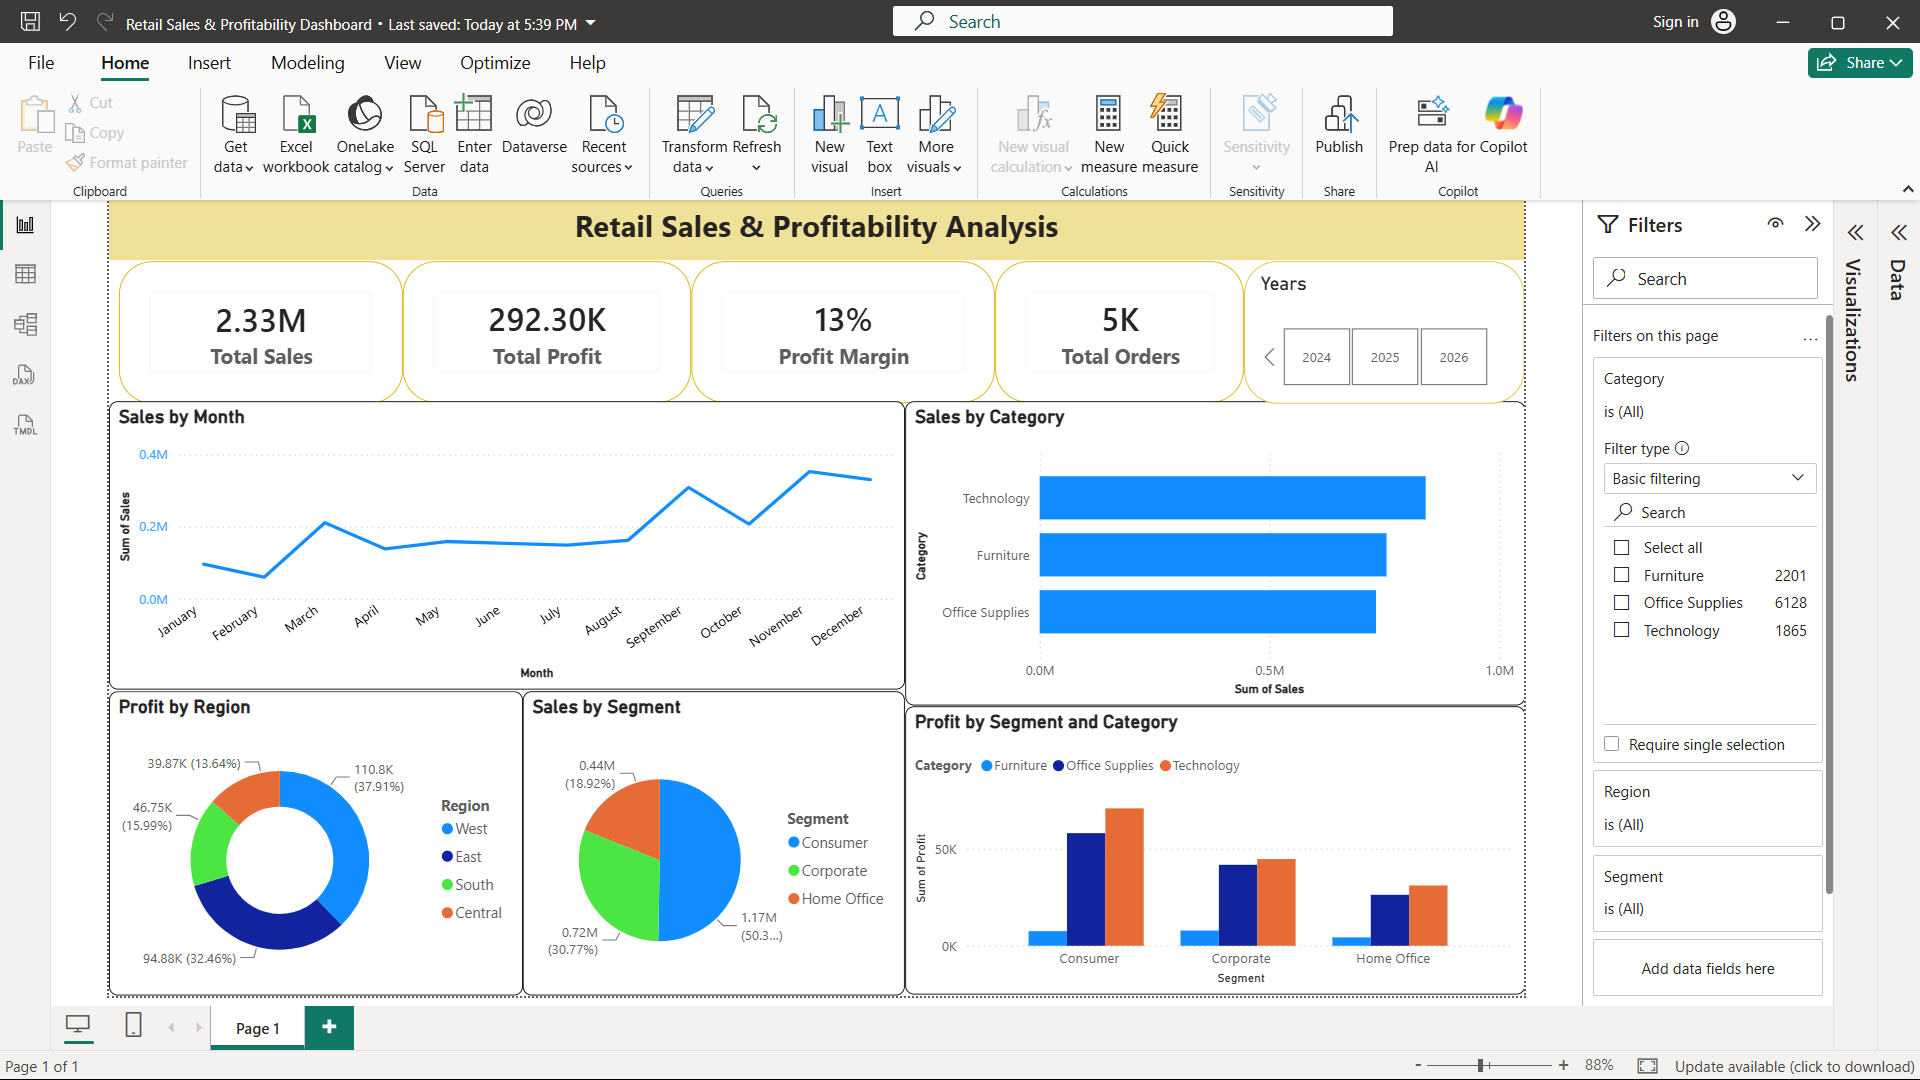

This screenshot's page, from the dashboard's own definition file:
{"tool":"powerbi","page":{"name":"Page 1","canvas":[1280,720],"ordinal":0},"visuals":[{"type":"cardVisual","fields":{"Data":["superstore_cleaned.Total Sales"]},"box":[9.6,54.9,256.6,129],"z":0},{"type":"cardVisual","fields":{"Data":["superstore_cleaned.Total Profit"]},"box":[266.2,54.9,260.7,127.6],"z":1000},{"type":"cardVisual","fields":{"Data":["superstore_cleaned.Profit Margin"]},"box":[526.9,54.9,274.4,127.6],"z":2000},{"type":"cardVisual","fields":{"Data":["superstore_cleaned.Total Orders"]},"box":[801.4,54.9,225,127.6],"z":3000},{"type":"lineChart","title":"Sales by Month","fields":{"Category":["superstore_cleaned.Order Date.Variation.Date Hierarchy.Month"],"Y":["Sum(superstore_cleaned.Sales)"]},"box":[0,182.6,719.8,260.5],"z":4000},{"type":"clusteredBarChart","title":"Sales by Category","fields":{"Category":["superstore_cleaned.Category"],"Y":["Sum(superstore_cleaned.Sales)"]},"box":[720.4,182.5,560.5,275.6],"z":5000},{"type":"pieChart","title":"Sales by Segment","fields":{"Category":["superstore_cleaned.Segment"],"Y":["Sum(superstore_cleaned.Sales)"]},"box":[374.4,444.2,345.3,275.6],"z":6000},{"type":"donutChart","title":"Profit by Region","fields":{"Category":["superstore_cleaned.Region"],"Y":["Sum(superstore_cleaned.Profit)"]},"box":[0,444.2,374.4,275.6],"z":7000},{"type":"clusteredColumnChart","title":"Profit by Segment and Category","fields":{"Category":["superstore_cleaned.Segment"],"Y":["Sum(superstore_cleaned.Profit)"],"Series":["superstore_cleaned.Category"]},"box":[720.4,458.3,560.5,260.5],"z":8000},{"type":"textbox","box":[0,0,1280.2,54.7],"z":8001},{"type":"slicer","title":"Years","fields":{"Values":["superstore_cleaned.Order Date.Variation.Date Hierarchy.Year"]},"box":[1026.4,54.9,253.9,129],"z":8002}]}

Visuals, with their boxes on the page's 1280x720 design canvas (x1, y1, x2, y2). These are canvas units, not pixel positions in the 1920x1080 screenshot, which may show the page scaled, cropped or inside an application window:
cardVisual - superstore_cleaned.Total Sales: <box>10,55,266,184</box>
cardVisual - superstore_cleaned.Total Profit: <box>266,55,527,182</box>
cardVisual - superstore_cleaned.Profit Margin: <box>527,55,801,182</box>
cardVisual - superstore_cleaned.Total Orders: <box>801,55,1026,182</box>
"Sales by Month" lineChart: <box>0,183,720,443</box>
"Sales by Category" clusteredBarChart: <box>720,182,1281,458</box>
"Sales by Segment" pieChart: <box>374,444,720,720</box>
"Profit by Region" donutChart: <box>0,444,374,720</box>
"Profit by Segment and Category" clusteredColumnChart: <box>720,458,1281,719</box>
textbox: <box>0,0,1280,55</box>
"Years" slicer: <box>1026,55,1280,184</box>
